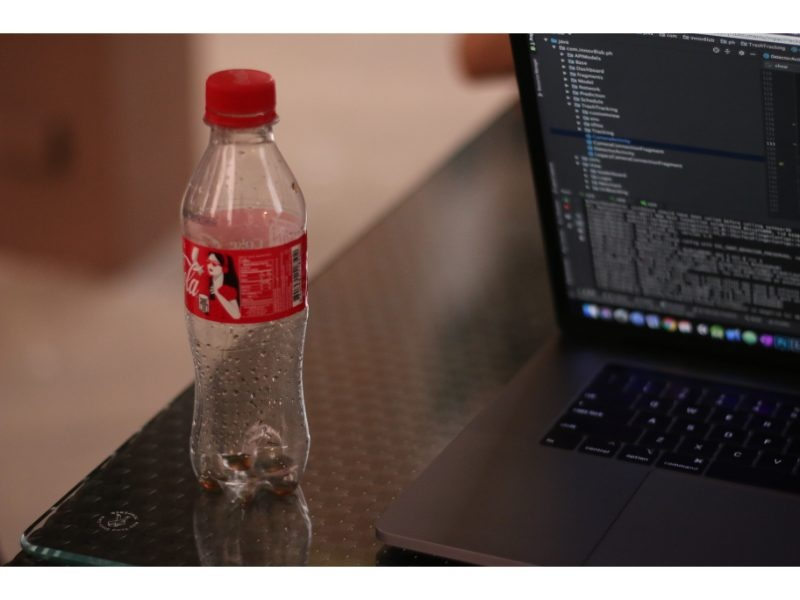PET #1: (181, 66, 319, 506)
